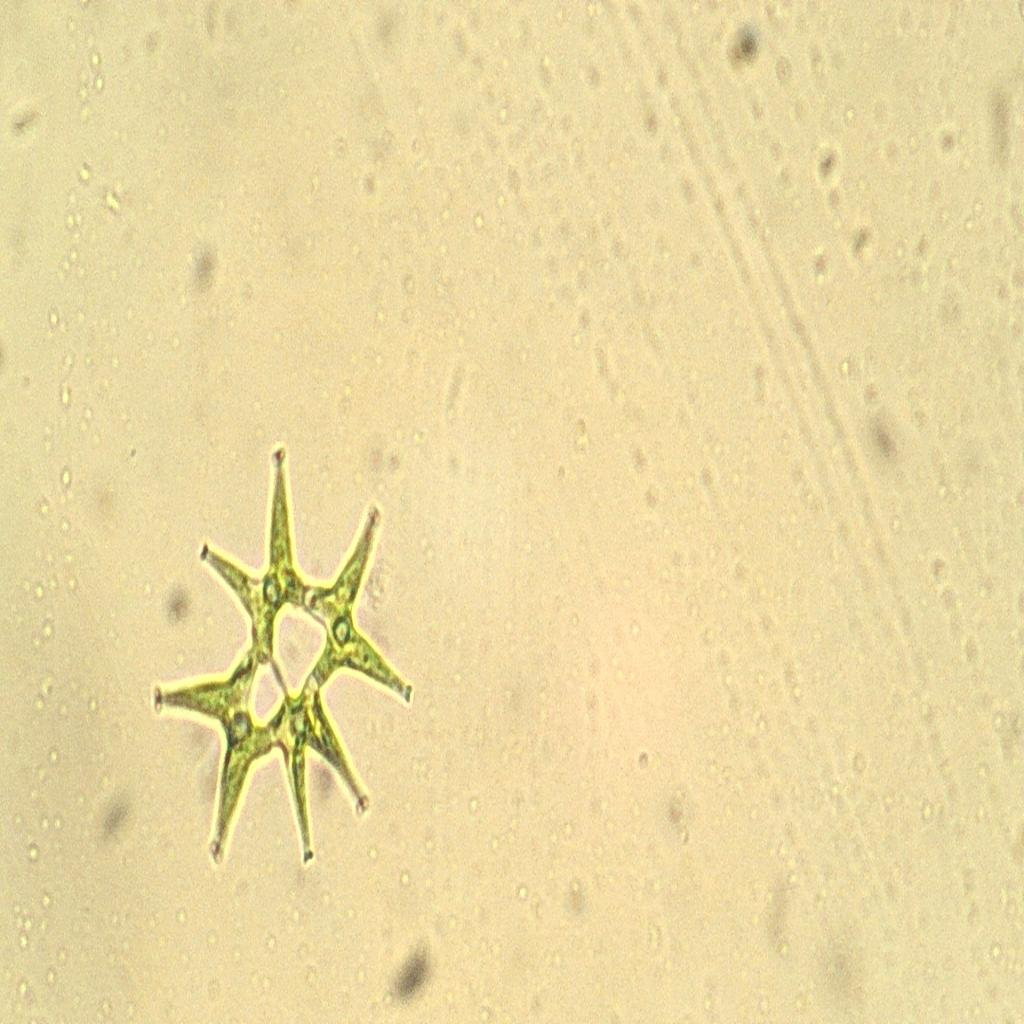Pediastrum_CF: (144, 428, 431, 884)
